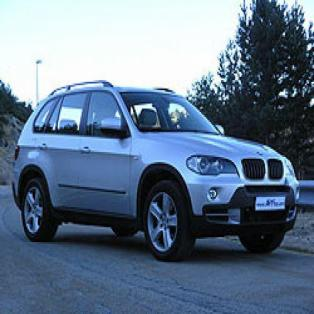Auto: (10, 80, 299, 262)
